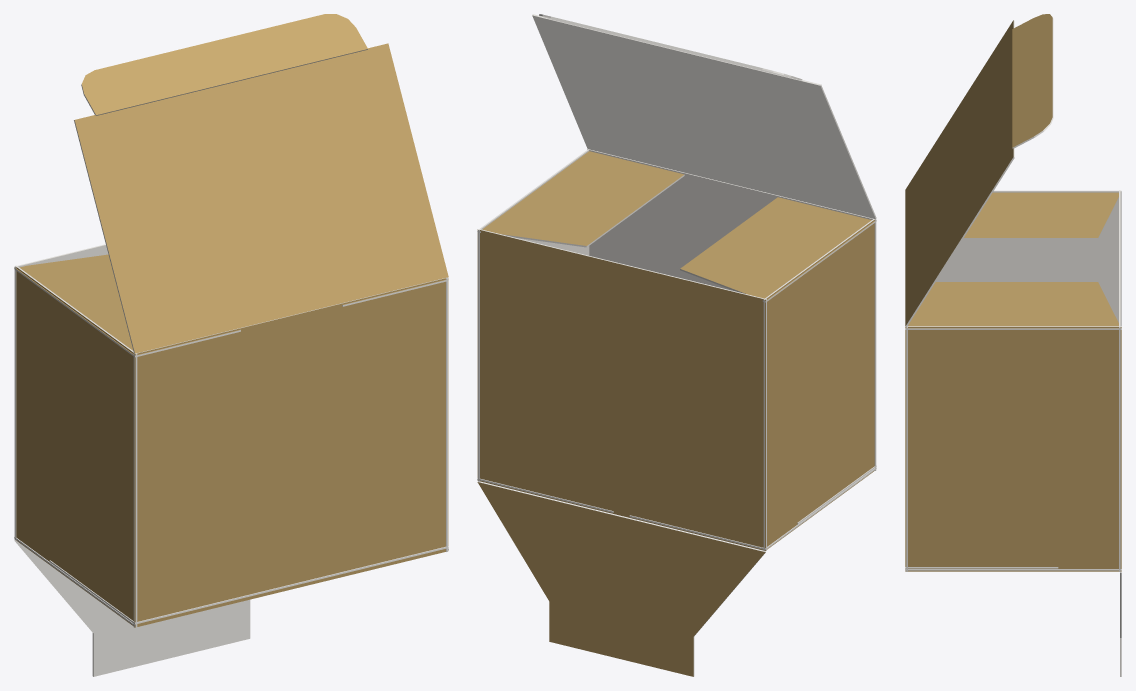
3 renders of one model, left to right at view 1: azimuth 30°, elevation 25°; view 2: azimuth 150°, elevation 25°; view 3: azimuth 270°, elevation 25°, orthographic. The views are drawn at different scales.
Visible parts, largest first — view 1: Packive_Box_fefco0215; view 2: Packive_Box_fefco0215; view 3: Packive_Box_fefco0215.
Boxes of the visible parts, x1,y1,x2,y2 form: Packive_Box_fefco0215: (14,14,448,676); Packive_Box_fefco0215: (477,14,876,676); Packive_Box_fefco0215: (905,14,1121,676).
Size of the model in its own units: 0.3 by 0.5877 by 0.2.
26 materials, 13 textured.
